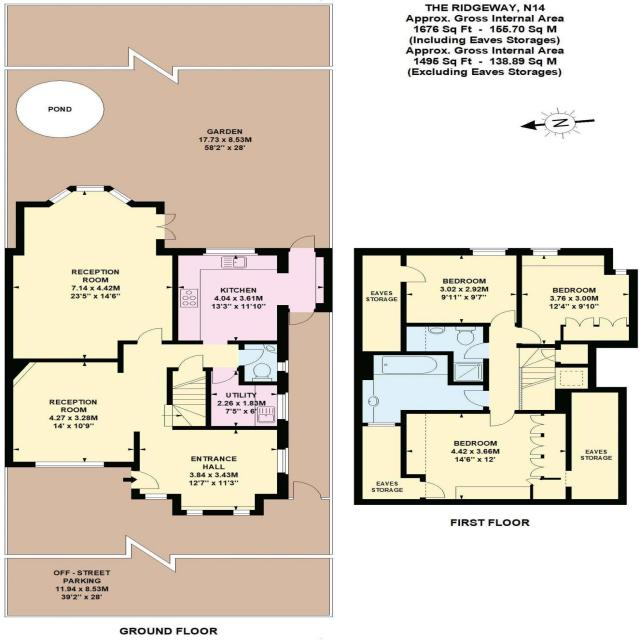DOOR: (130, 468, 163, 490), (399, 264, 428, 283), (176, 354, 205, 372), (289, 307, 316, 326), (237, 349, 265, 367), (418, 481, 446, 499), (289, 235, 316, 253), (136, 327, 163, 345), (489, 310, 516, 328), (489, 409, 516, 427), (212, 366, 238, 384), (515, 327, 542, 344), (463, 342, 490, 359), (463, 390, 490, 407)
DOUBLE DOOR: (152, 211, 179, 241)
ROOM: (4, 185, 179, 363), (400, 410, 572, 505), (516, 248, 639, 348), (400, 248, 523, 327)
WINDOW: (31, 459, 107, 469), (272, 445, 293, 475), (106, 185, 135, 205), (276, 392, 290, 422), (47, 188, 73, 204), (205, 247, 256, 254), (469, 247, 508, 256), (74, 183, 106, 193), (530, 247, 562, 256), (142, 492, 168, 501), (276, 360, 290, 373), (231, 509, 252, 516), (367, 422, 396, 427), (185, 509, 204, 516), (615, 269, 627, 276)
